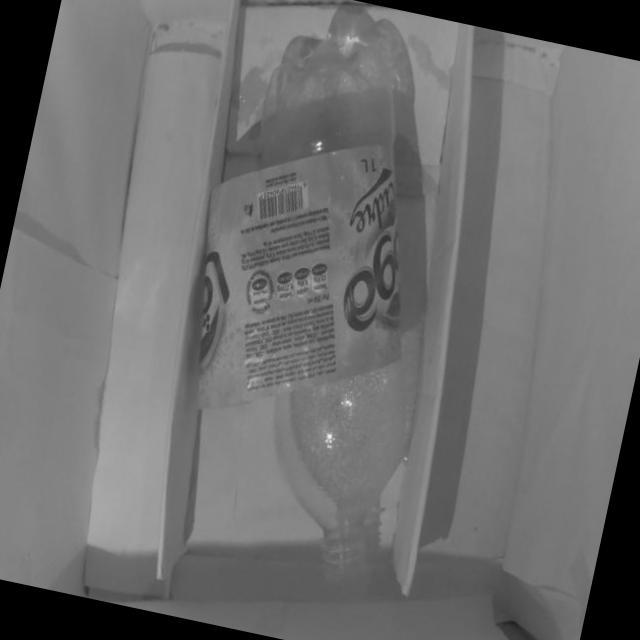good: (162, 0, 508, 611)
